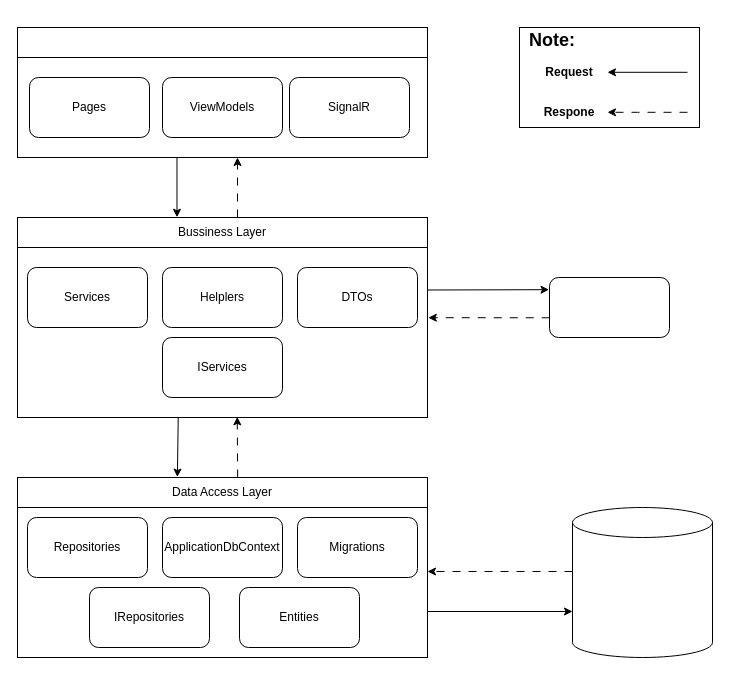
Image size: 730x675. Some labels were removed from this diagram. The centre of each missing label's shape, as x and y in pixels:
AI Services: the point at 609,307
PostgresSQL pgvector: the point at 642,582
Presentation Layer: the point at 222,42
